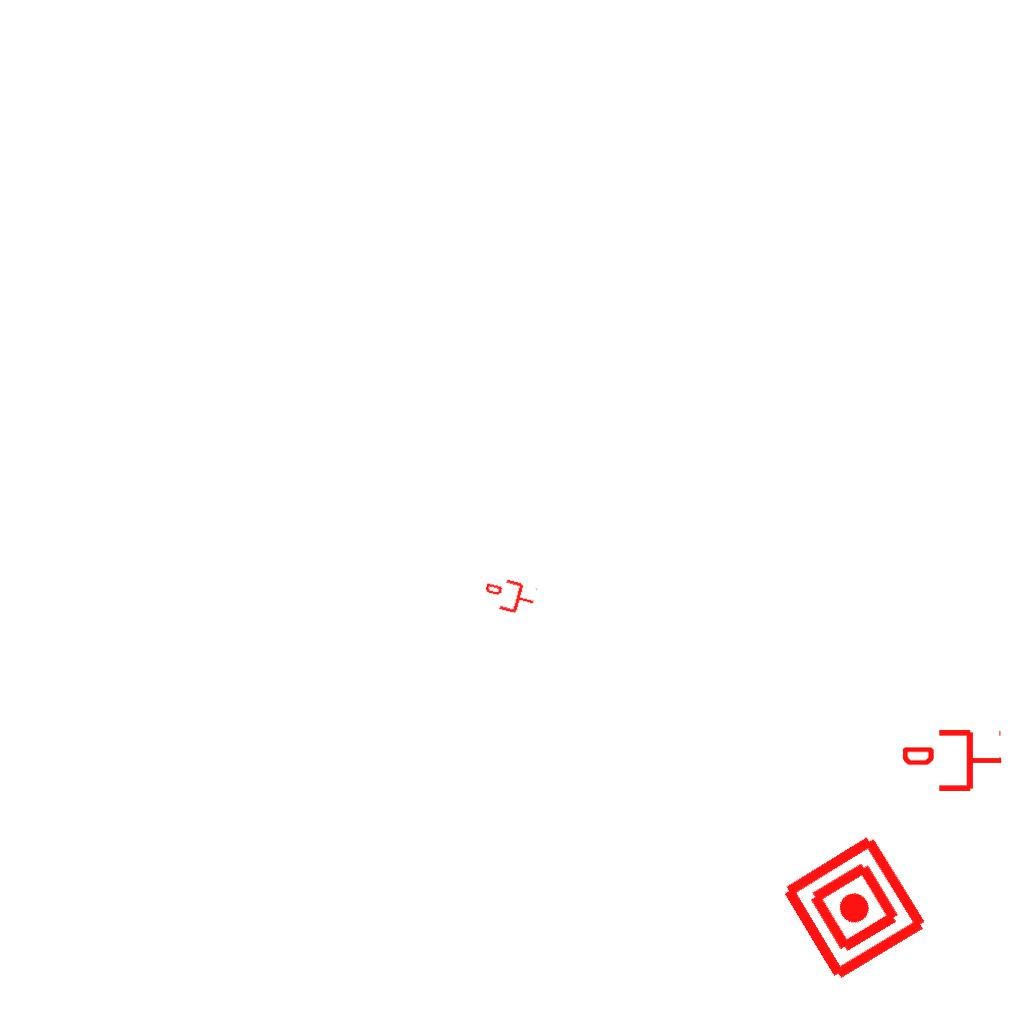Datenanschluss_einfach: (903, 726, 1003, 795), (481, 573, 539, 619)
NAM-Nichtautomatischer_Melder: (776, 829, 933, 986)
